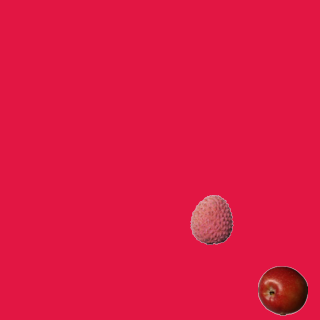Apple Braeburn: (257, 265, 307, 315)
Lychee: (186, 194, 236, 244)
